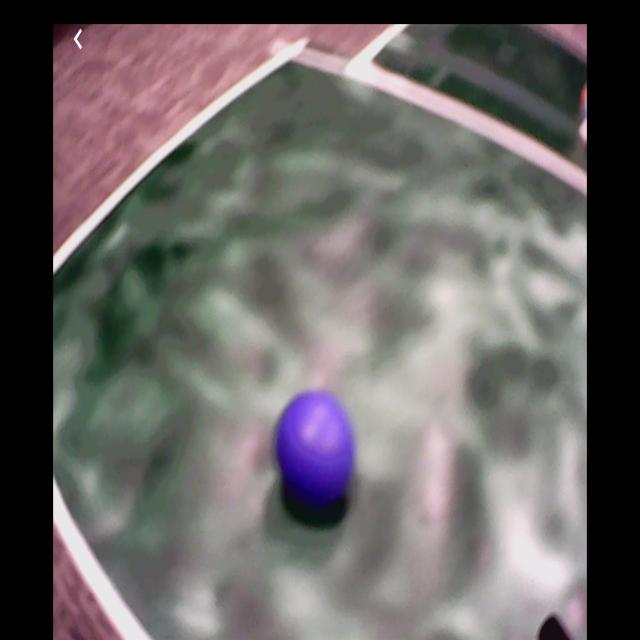ball: (276, 393, 353, 502)
